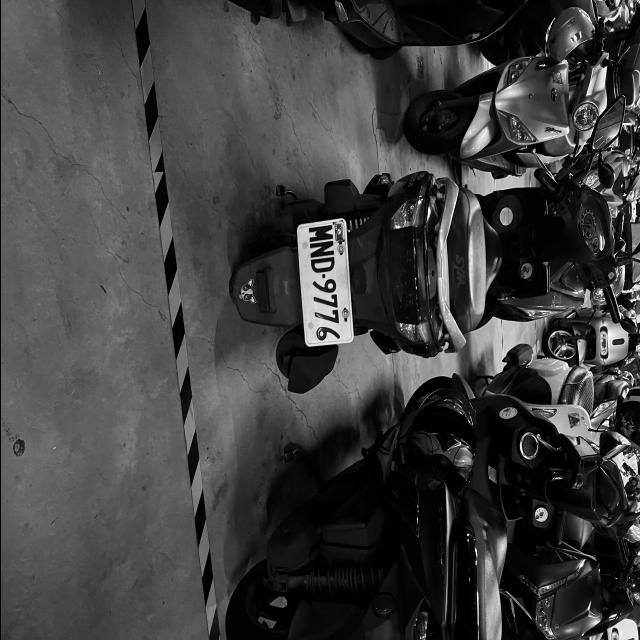-: (320, 274, 326, 278)
6: (315, 328, 341, 342)
7: (310, 310, 340, 324), (313, 294, 338, 308)
9: (311, 279, 336, 293)
D: (308, 256, 337, 275)
M: (307, 224, 333, 244)
N: (308, 241, 335, 261)
plate: (302, 222, 346, 347)
